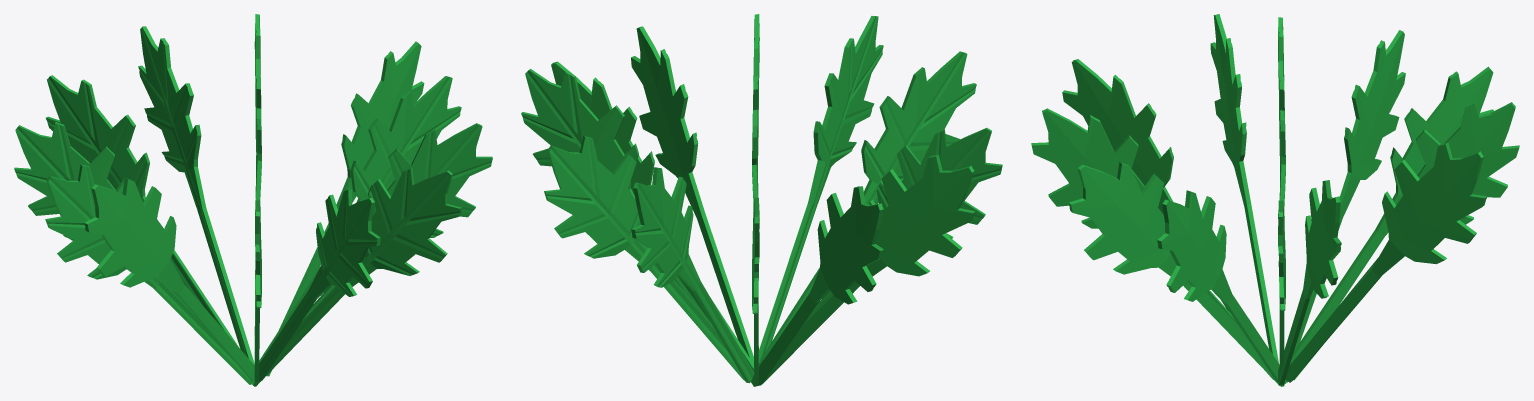
Rendered from arug.fbx.
3 renders of one model, left to right at view 1: azimuth 30°, elevation 25°; view 2: azimuth 150°, elevation 25°; view 3: azimuth 270°, elevation 25°, orthographic. The views are drawn at different scales.
Visible parts, largest first — view 1: Лист руколы.010, Лист руколы.009, Лист руколы.003, Лист руколы.002, Лист руколы.008, Лист руколы.001, Лист руколы, Лист руколы.011, Лист руколы.006, Лист руколы.007, Лист руколы.004, Лист руколы.005; view 2: Лист руколы, Лист руколы.004, Лист руколы.005, Лист руколы.002, Лист руколы.006, Лист руколы.007, Лист руколы.003, Лист руколы.011, Лист руколы.010, Лист руколы.001, Лист руколы.008, Лист руколы.009; view 3: Лист руколы.004, Лист руколы.009, Лист руколы.006, Лист руколы.007, Лист руколы.008, Лист руколы.005, Лист руколы.002, Лист руколы.003, Лист руколы.010, Лист руколы.011, Лист руколы, Лист руколы.001.
Boxes of the visible parts, x1,y1,x2,y2 form: Лист руколы.010: (84,178,254,381); Лист руколы.009: (253,167,461,386); Лист руколы.003: (138,26,254,364); Лист руколы.002: (259,189,380,380); Лист руколы.008: (46,75,238,346); Лист руколы.001: (249,76,461,384); Лист руколы: (45,164,253,384); Лист руколы.011: (266,41,424,376); Лист руколы.006: (256,123,492,386); Лист руколы.007: (14,122,178,296); Лист руколы.004: (254,14,261,351); Лист руколы.005: (254,200,261,381); Лист руколы: (760,154,975,385); Лист руколы.004: (544,136,744,380); Лист руколы.005: (759,51,976,364); Лист руколы.002: (758,16,883,363); Лист руколы.006: (631,26,753,364); Лист руколы.007: (757,186,884,385); Лист руколы.003: (631,167,754,383); Лист руколы.011: (521,68,710,322); Лист руколы.010: (759,128,1002,366); Лист руколы.001: (551,61,756,386); Лист руколы.008: (752,197,759,385); Лист руколы.009: (752,14,759,353); Лист руколы.004: (1285,142,1487,382); Лист руколы.009: (1068,162,1287,386); Лист руколы.006: (1157,190,1283,386); Лист руколы.007: (1294,30,1405,350); Лист руколы.008: (1285,66,1493,382); Лист руколы.005: (1062,59,1229,311); Лист руколы.002: (1031,108,1273,379); Лист руколы.003: (1293,101,1519,380); Лист руколы.010: (1210,14,1278,363); Лист руколы.011: (1277,180,1341,385); Лист руколы: (1278,17,1285,206); Лист руколы.001: (1278,200,1285,386).
Size of the model in its own units: 21.61 by 13.9 by 21.55.
